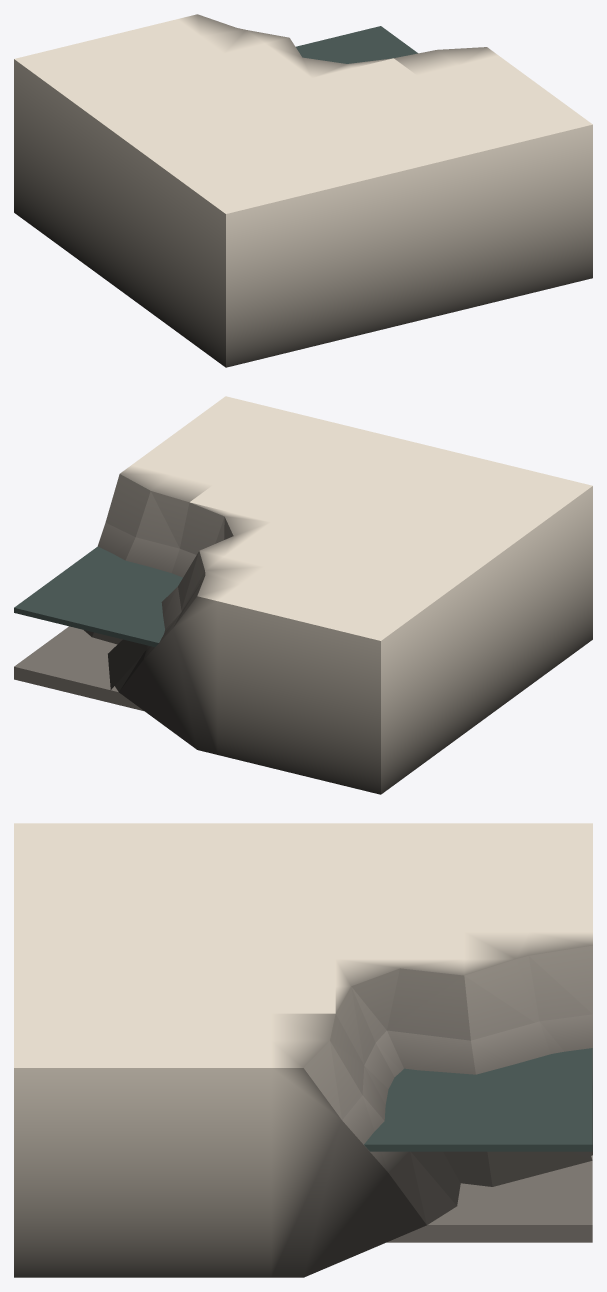
The model's file is SM_VKI_Ground_Stream_OOXO_Q01.fbx.
3 views of the same model, one above another, from view 1: azimuth 30°, elevation 25°; view 2: azimuth 150°, elevation 25°; view 3: azimuth 270°, elevation 25° (orthographic). The views are drawn at different scales.
Parts seen in each view (by area): view 1: SM_VKI_Ground_Stream_OOXO_Q01.001; view 2: SM_VKI_Ground_Stream_OOXO_Q01.001; view 3: SM_VKI_Ground_Stream_OOXO_Q01.001.
Part boxes in pixels (x1=…): SM_VKI_Ground_Stream_OOXO_Q01.001: x1=14, y1=14, x2=592, y2=367; SM_VKI_Ground_Stream_OOXO_Q01.001: x1=14, y1=396, x2=592, y2=794; SM_VKI_Ground_Stream_OOXO_Q01.001: x1=14, y1=823, x2=592, y2=1277.
Size of the model in its own units: 1.5 by 0.6 by 1.5.
